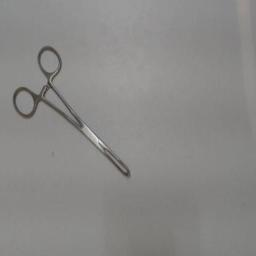Allis Tissue Forceps: (8, 40, 134, 182)
